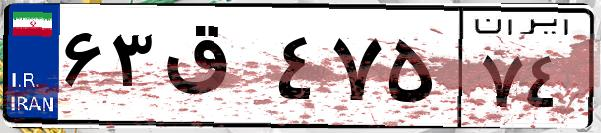3: (110, 28, 158, 98)
4: (270, 28, 330, 110), (525, 38, 570, 115)
5: (385, 28, 445, 110)
6: (57, 26, 110, 100)
7: (330, 28, 385, 110), (475, 38, 525, 113)
ق: (158, 20, 270, 120)
